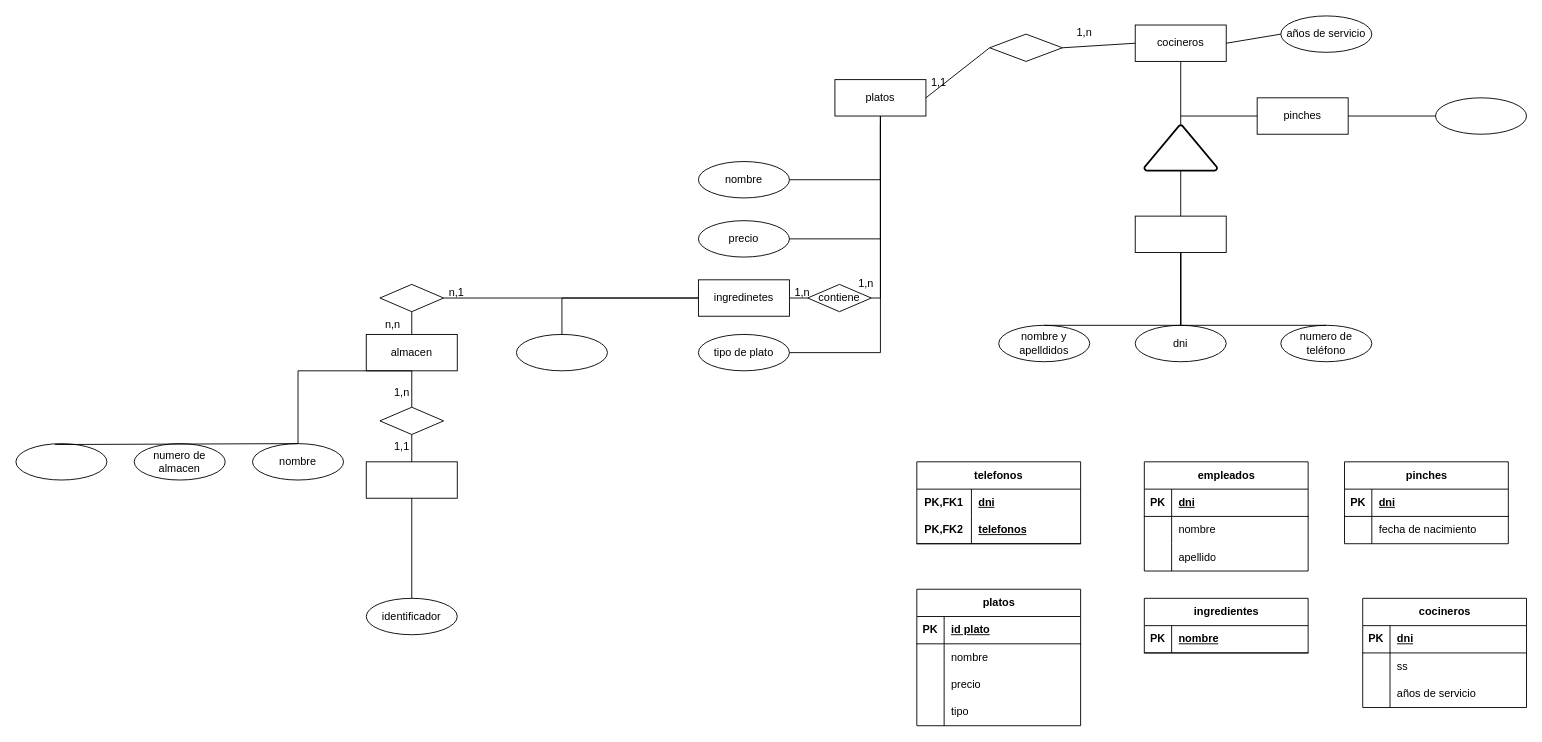
Some shapes in this 1542 by 742 pixel diagram are drawn without their labels. Here are the shapes that lost their labels. From the top down, the centre of each, then its label:
At point (1025, 47): "pueden hacer".
At point (1481, 115): "fecha de nacimineto".
At point (1180, 147): "isa".
At point (1180, 234): "empleado".
At point (411, 297): "almacenado en".
At point (561, 352): "cantidad".
At point (411, 420): "tiene".
At point (61, 461): "descripcion".
At point (411, 479): "estanteria".
